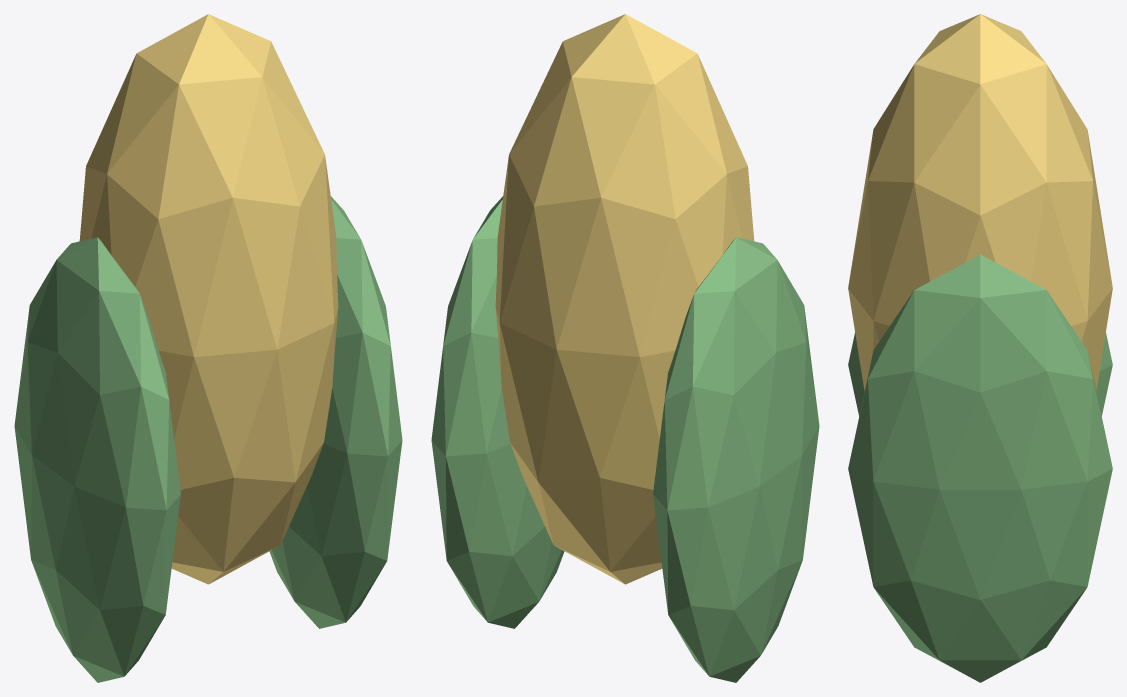
File: harvest_corn.glb
The picture shows the model from 3 angles, left to right: view 1: azimuth 30°, elevation 25°; view 2: azimuth 150°, elevation 25°; view 3: azimuth 270°, elevation 25°; orthographic projection. The views are drawn at different scales.
Visible parts, largest first — view 1: harvest_corn; view 2: harvest_corn; view 3: harvest_corn.
Part boxes in pixels (box(x1,y1,x2,y2)): harvest_corn: box(14, 14, 402, 682); harvest_corn: box(431, 14, 819, 682); harvest_corn: box(848, 14, 1112, 682).
Size of the model in its own units: 0.3646 by 0.72 by 0.28.
